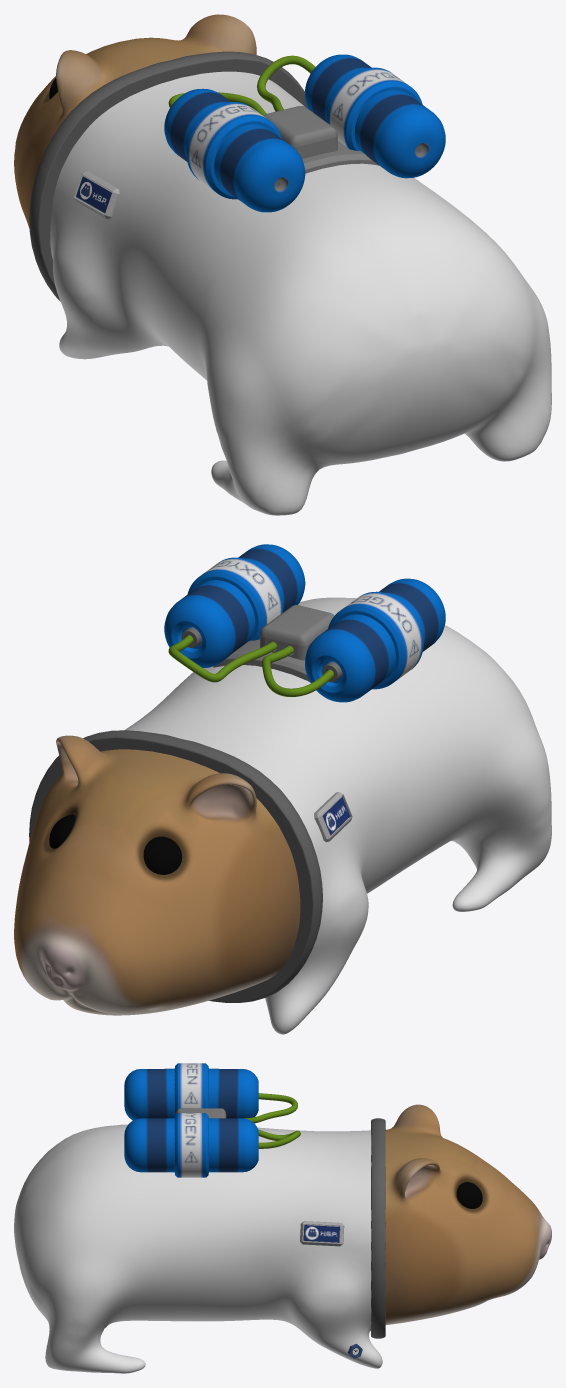
File: humster.fbx
3 renders of one model, top to bottom at view 1: azimuth 30°, elevation 25°; view 2: azimuth 150°, elevation 25°; view 3: azimuth 270°, elevation 25°, orthographic. The views are drawn at different scales.
Visible parts, largest first — view 1: body, oxygen, neck, flag; view 2: body, oxygen, neck, eye, flag; view 3: body, oxygen, neck, flag, eye.
Boxes of the visible parts, bbox=[...] form: body: bbox=[14, 14, 551, 515]; oxygen: bbox=[164, 54, 445, 212]; neck: bbox=[29, 51, 307, 301]; flag: bbox=[73, 171, 119, 219]; body: bbox=[14, 597, 551, 1034]; oxygen: bbox=[164, 544, 445, 702]; neck: bbox=[29, 730, 322, 1002]; eye: bbox=[49, 814, 182, 874]; flag: bbox=[314, 792, 352, 842]; body: bbox=[14, 1104, 551, 1373]; oxygen: bbox=[124, 1063, 300, 1177]; neck: bbox=[371, 1118, 385, 1338]; flag: bbox=[300, 1221, 344, 1246]; eye: bbox=[456, 1182, 482, 1208].
Size of the model in its own units: 264 by 256 by 520.
Materials: 1 (1 with a texture image).
